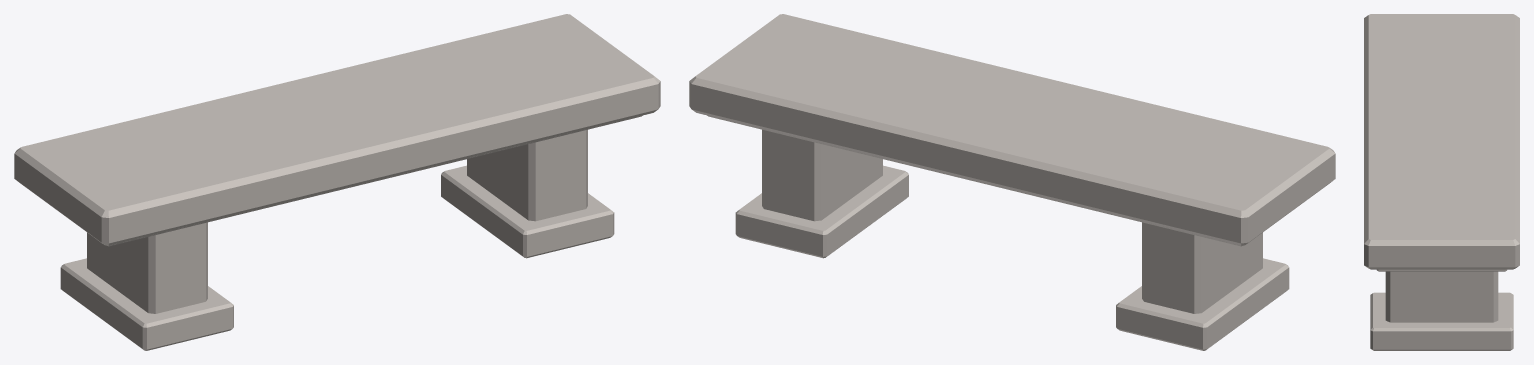
The model's file is desktop.glb.
3 renders of one model, left to right at view 1: azimuth 30°, elevation 25°; view 2: azimuth 150°, elevation 25°; view 3: azimuth 270°, elevation 25°, orthographic. The views are drawn at different scales.
Bounding box in the file's own units: 3 × 0.78 × 0.86.
1 material, 1 textured.
